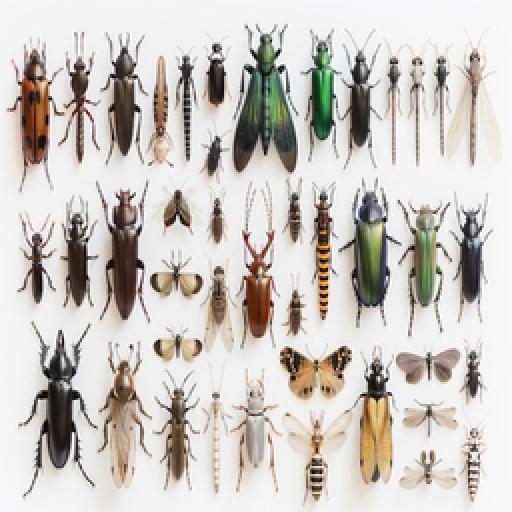insects: (20, 322, 98, 500), (232, 24, 300, 176), (346, 176, 400, 334), (98, 340, 148, 494), (10, 36, 56, 188), (100, 182, 148, 324), (226, 368, 280, 494), (54, 32, 100, 176), (454, 34, 502, 166), (448, 192, 494, 328), (356, 344, 398, 490), (56, 196, 104, 320), (240, 180, 276, 344), (152, 364, 198, 490), (102, 28, 144, 164), (302, 26, 342, 166), (402, 192, 448, 312), (306, 178, 340, 322), (342, 36, 380, 164), (278, 344, 352, 402), (200, 350, 230, 492), (18, 210, 60, 310), (296, 408, 338, 504), (148, 240, 206, 304), (144, 48, 174, 160), (396, 344, 460, 390), (398, 448, 458, 494), (458, 414, 488, 506), (174, 50, 196, 170), (430, 48, 452, 164), (384, 50, 404, 166), (398, 396, 456, 436), (408, 50, 426, 166), (460, 338, 486, 408), (162, 188, 192, 248), (154, 328, 204, 364), (204, 40, 228, 110), (206, 266, 236, 320), (202, 182, 226, 246), (282, 178, 304, 246), (284, 286, 306, 338)
